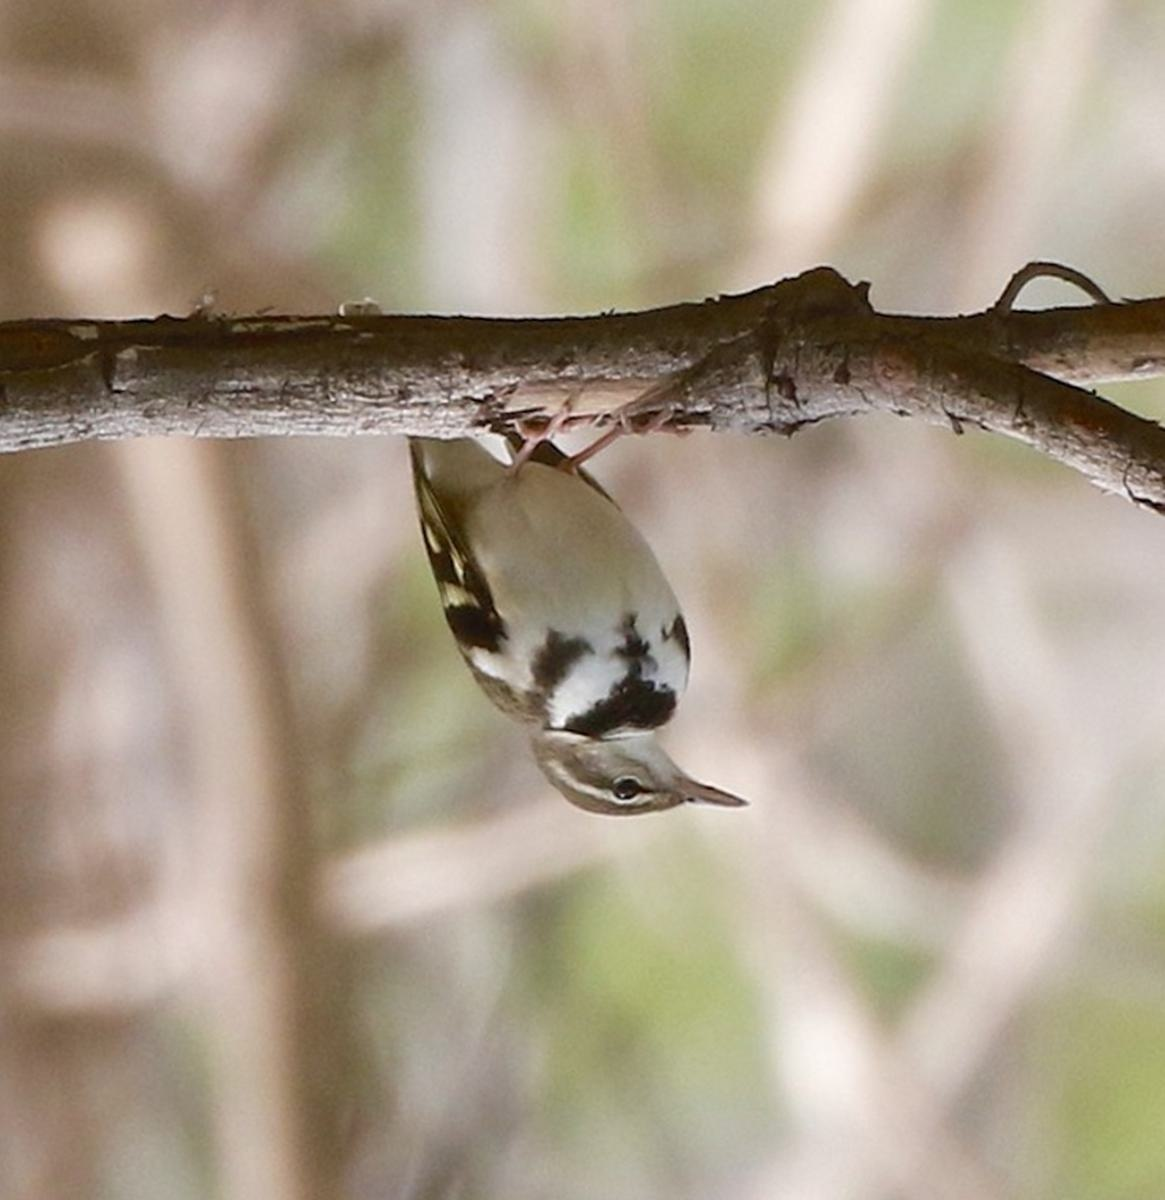wagtail: (431, 411, 761, 847)
